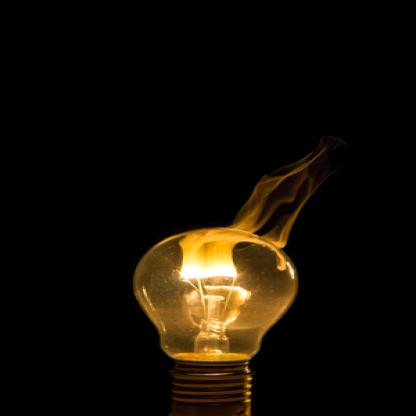smoke: (173, 143, 328, 265)
